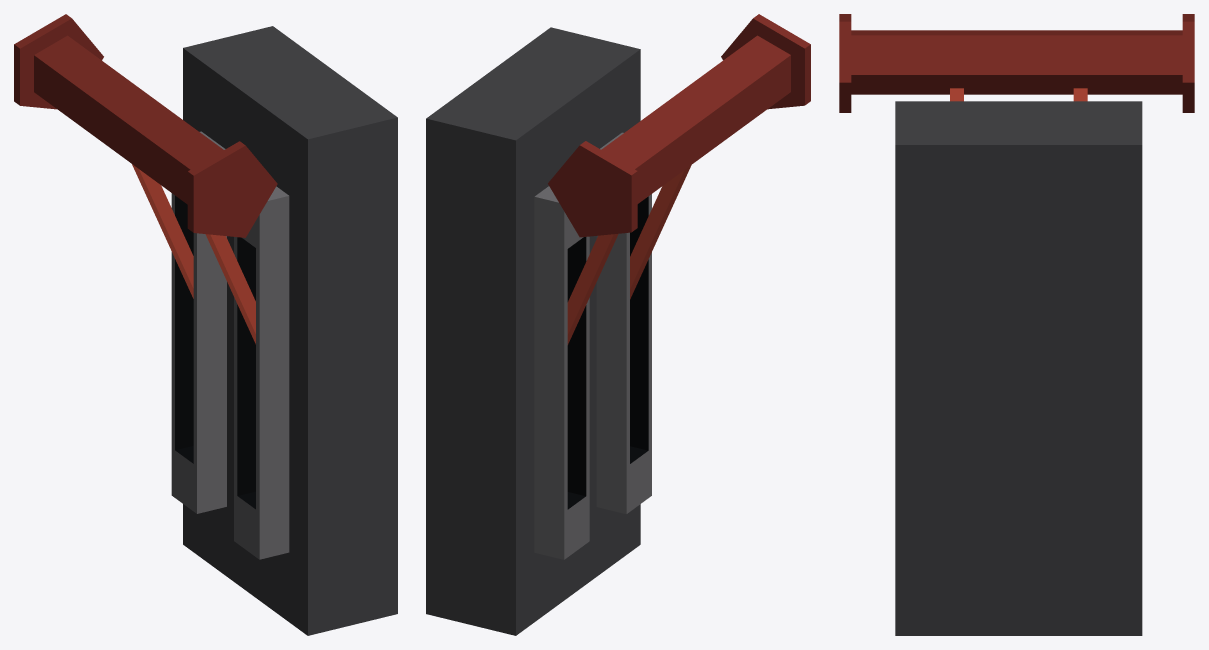
The model's file is switch.fbx.
3 views of the same model, side by side, from view 1: azimuth 30°, elevation 25°; view 2: azimuth 150°, elevation 25°; view 3: azimuth 270°, elevation 25° (orthographic).
Parts seen in each view (by area): view 1: polySurface29, polySurface30, polySurface31, polySurface34, polySurface36, polySurface35, polySurface32, polySurface33; view 2: polySurface29, polySurface31, polySurface30, polySurface34, polySurface35, polySurface36, polySurface33, polySurface32; view 3: polySurface29, polySurface34, polySurface36, polySurface35.
Boxes of the visible parts, box(x1,y1,x2,y2) form: polySurface29: box(183, 26, 397, 635); polySurface30: box(234, 186, 289, 559); polySurface31: box(171, 131, 226, 513); polySurface34: box(34, 35, 223, 204); polySurface36: box(187, 141, 277, 237); polySurface35: box(14, 14, 103, 109); polySurface32: box(132, 164, 193, 298); polySurface33: box(205, 234, 255, 344); polySurface29: box(426, 27, 640, 635); polySurface31: box(534, 186, 589, 559); polySurface30: box(596, 132, 651, 514); polySurface34: box(601, 35, 790, 203); polySurface35: box(548, 141, 637, 237); polySurface36: box(721, 14, 810, 109); polySurface33: box(630, 165, 691, 299); polySurface32: box(567, 233, 618, 344); polySurface29: box(895, 101, 1142, 635); polySurface34: box(851, 30, 1182, 94); polySurface36: box(839, 14, 851, 112); polySurface35: box(1182, 14, 1194, 112).
Bounding box in the file's own units: 1.07 × 2.35 × 1.44.
